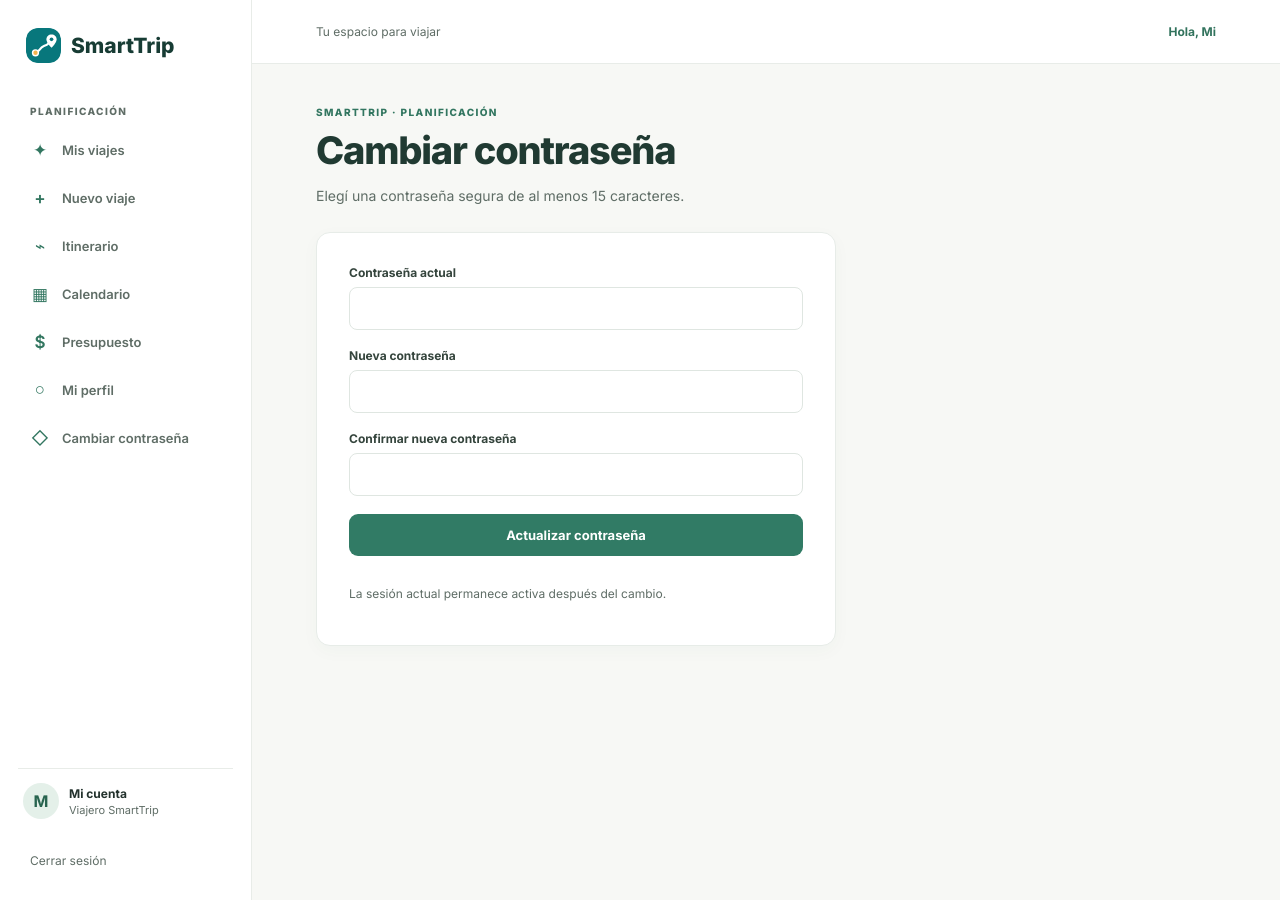
Test: ChangePassword › muestra el error y los errores por campo del servidor
In the password field labelled "Contraseña actual": (576, 308) [349, 287, 803, 330], type "mal"
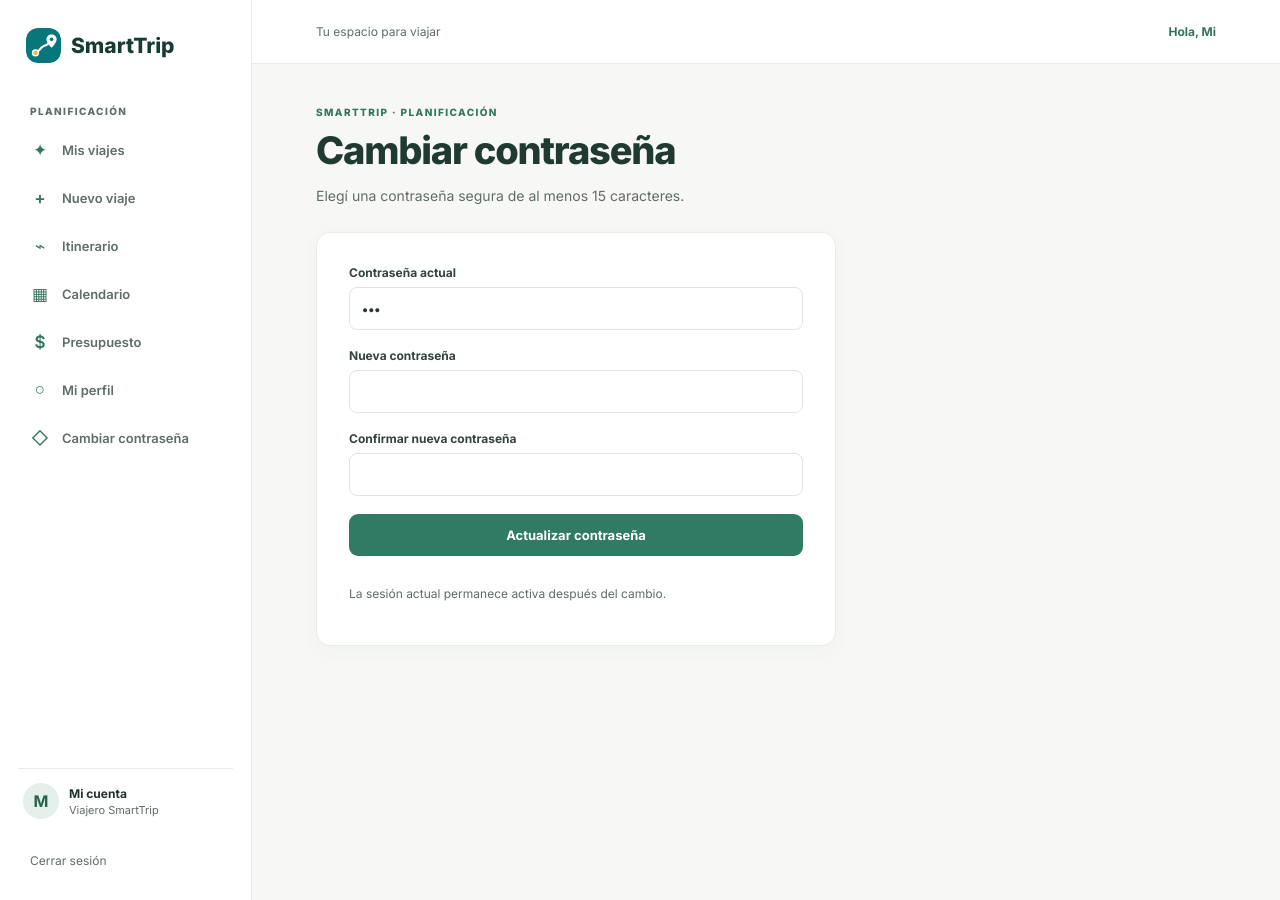
In the password field labelled "Nueva contraseña": (576, 392) [349, 370, 803, 413], type "una clave nueva y larga"
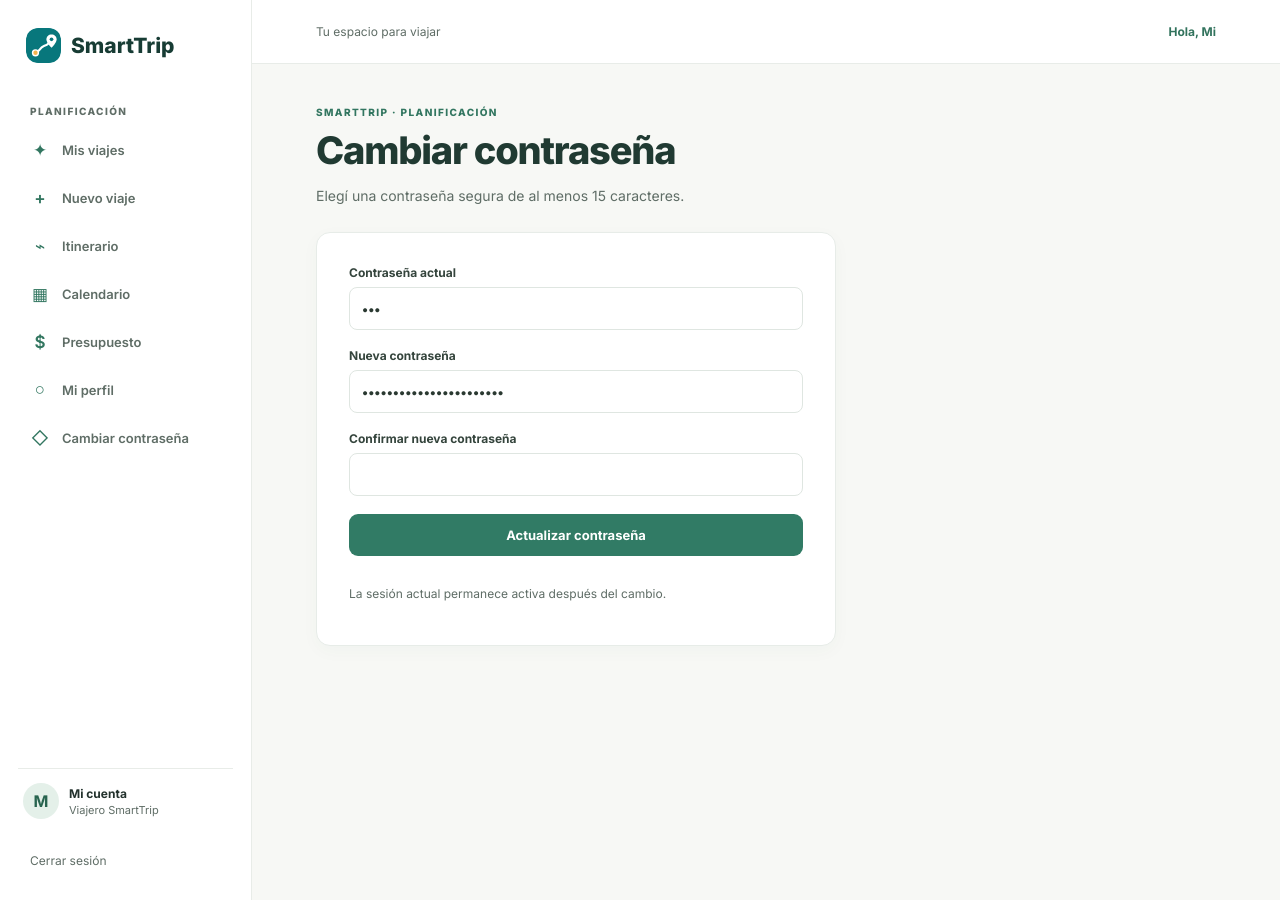
In the password field labelled "Confirmar nueva contraseña": (576, 474) [349, 453, 803, 496], type "una clave nueva y larga"
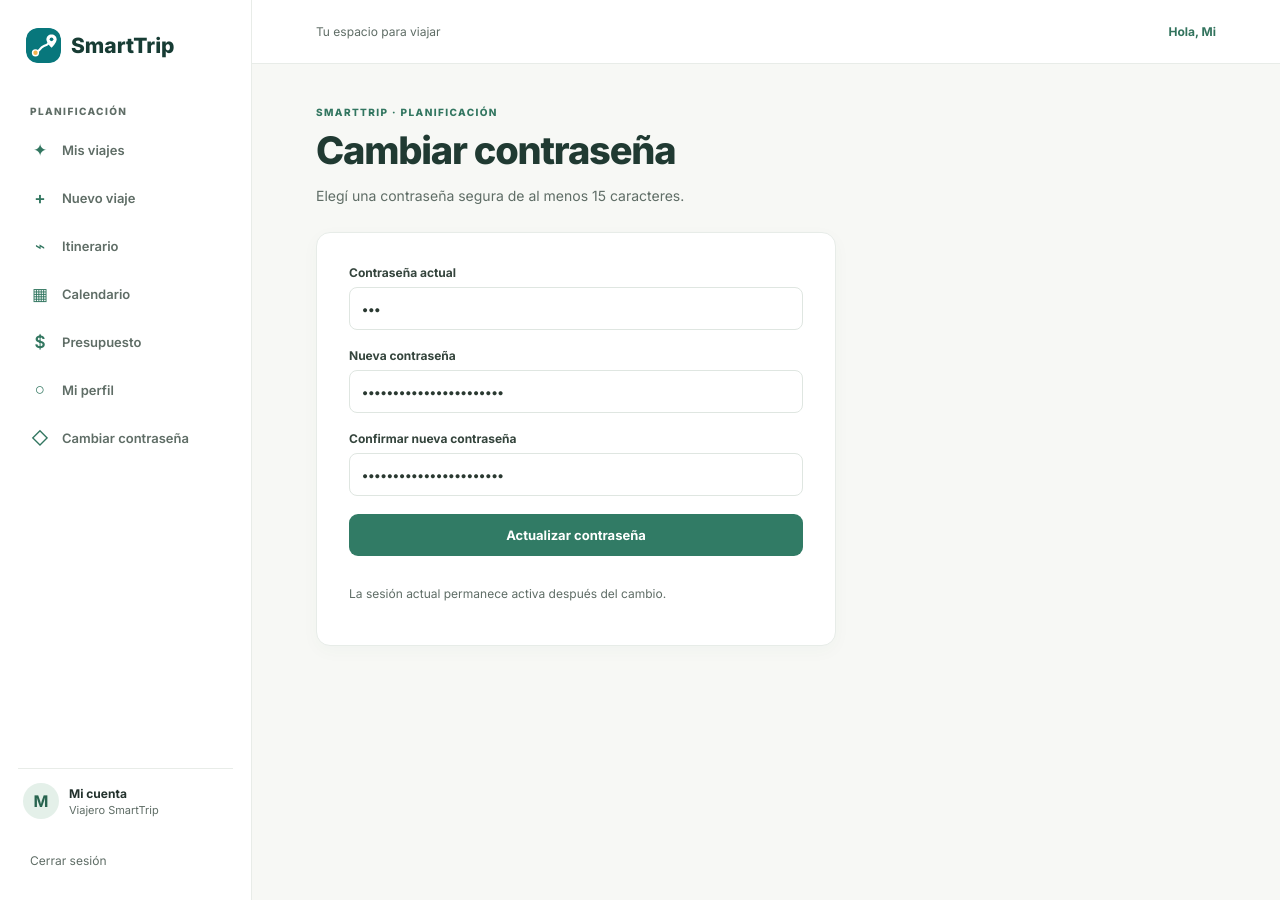
Click the button "Actualizar contraseña": (576, 535) [349, 514, 803, 556]
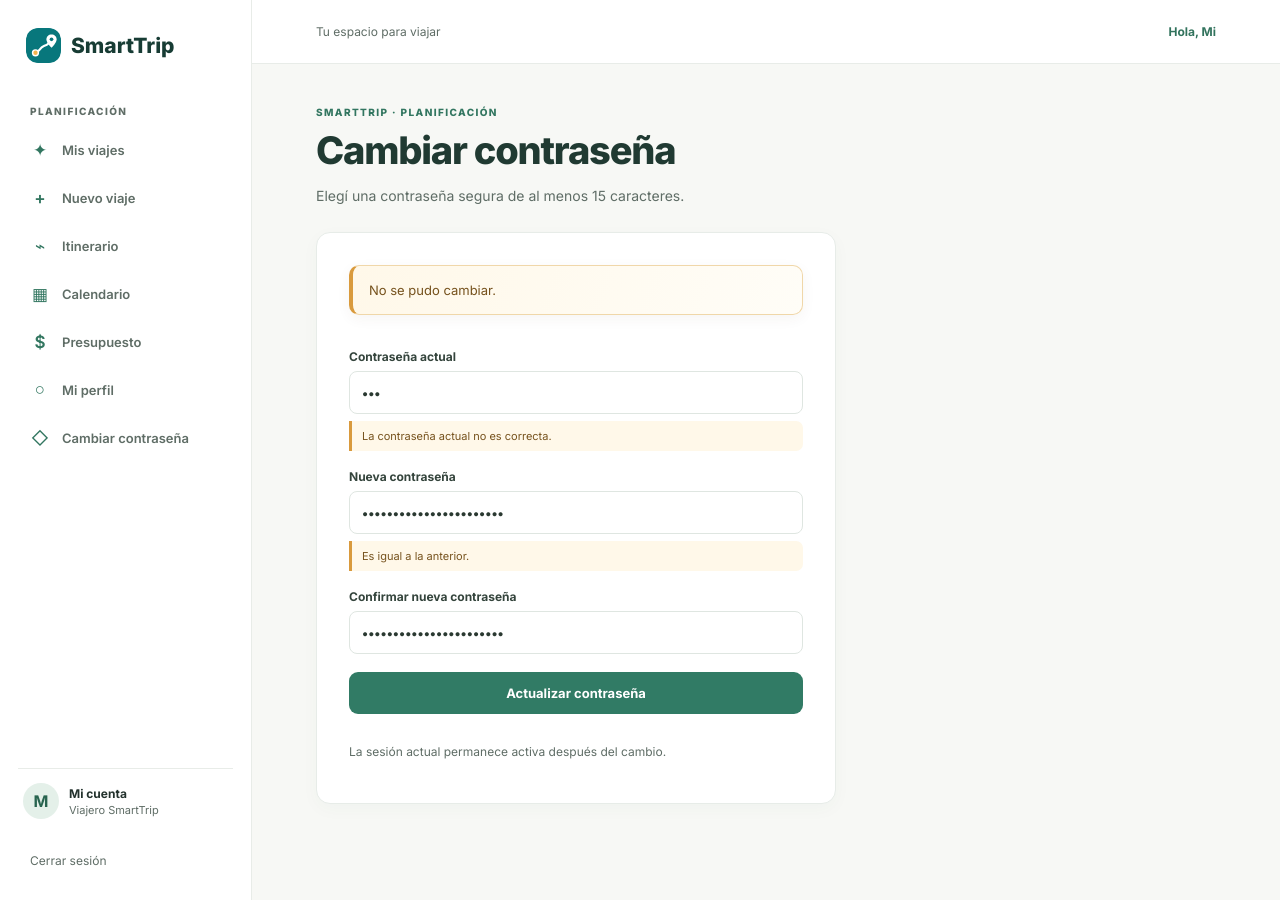
Check: the message reads "No se pudo cambiar.", box [369, 282, 496, 298]
Check: the text "La contraseña actual no es correcta." is shown, box [349, 421, 803, 451]
Check: the text "Es igual a la anterior." is shown, box [349, 541, 803, 571]
